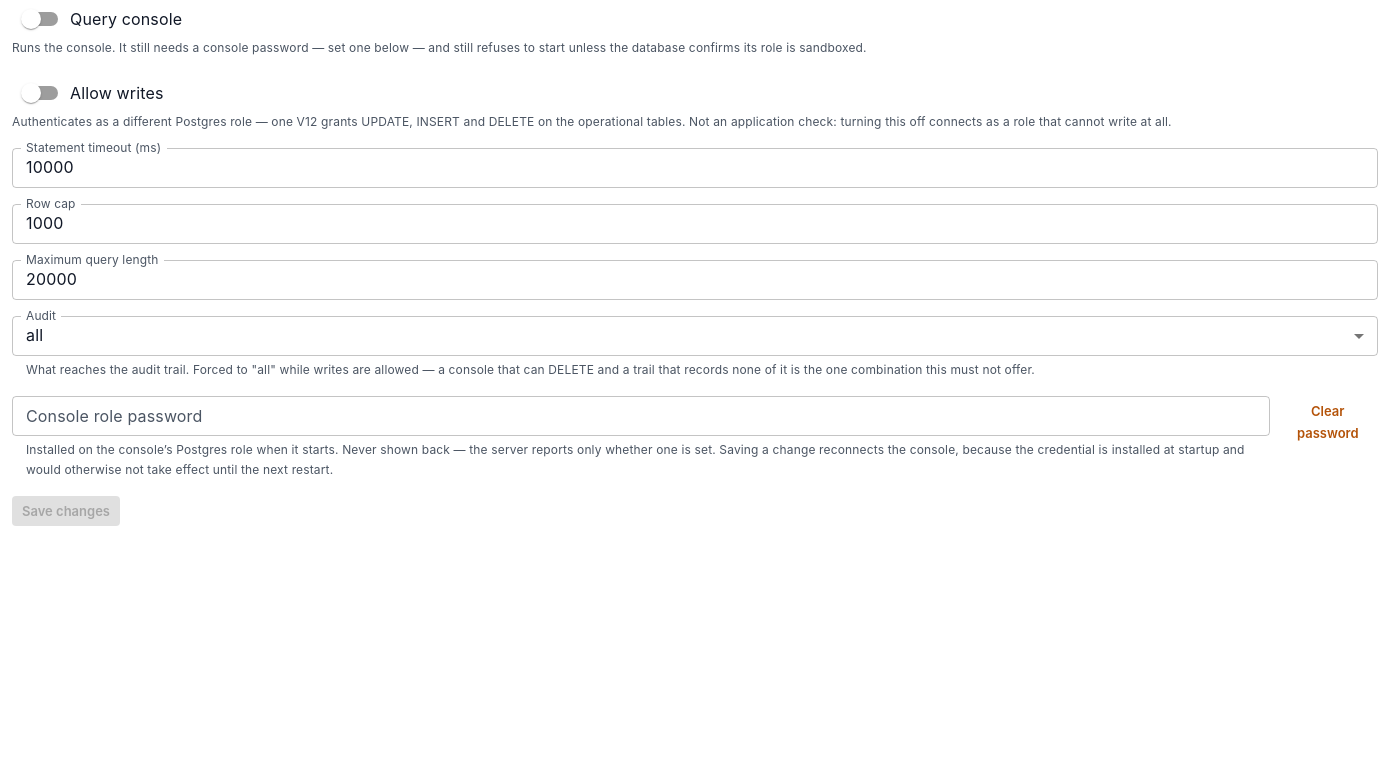
Test: editing the settings › counts what is waiting to be saved
Click the switch labelled "Query console" at coordinates (102, 19), box [21,9,182,29]
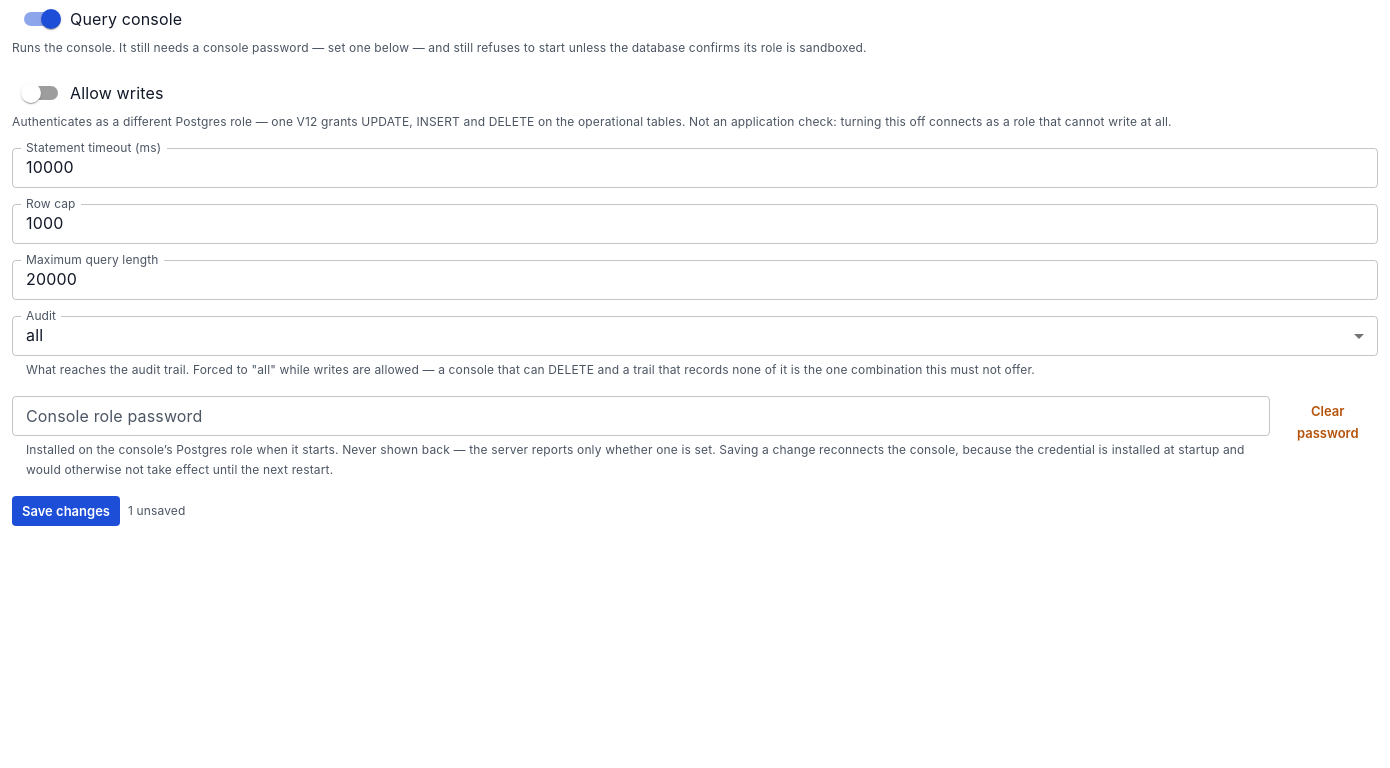
Click the switch labelled "Allow writes" at coordinates (92, 93), box [21,83,164,103]
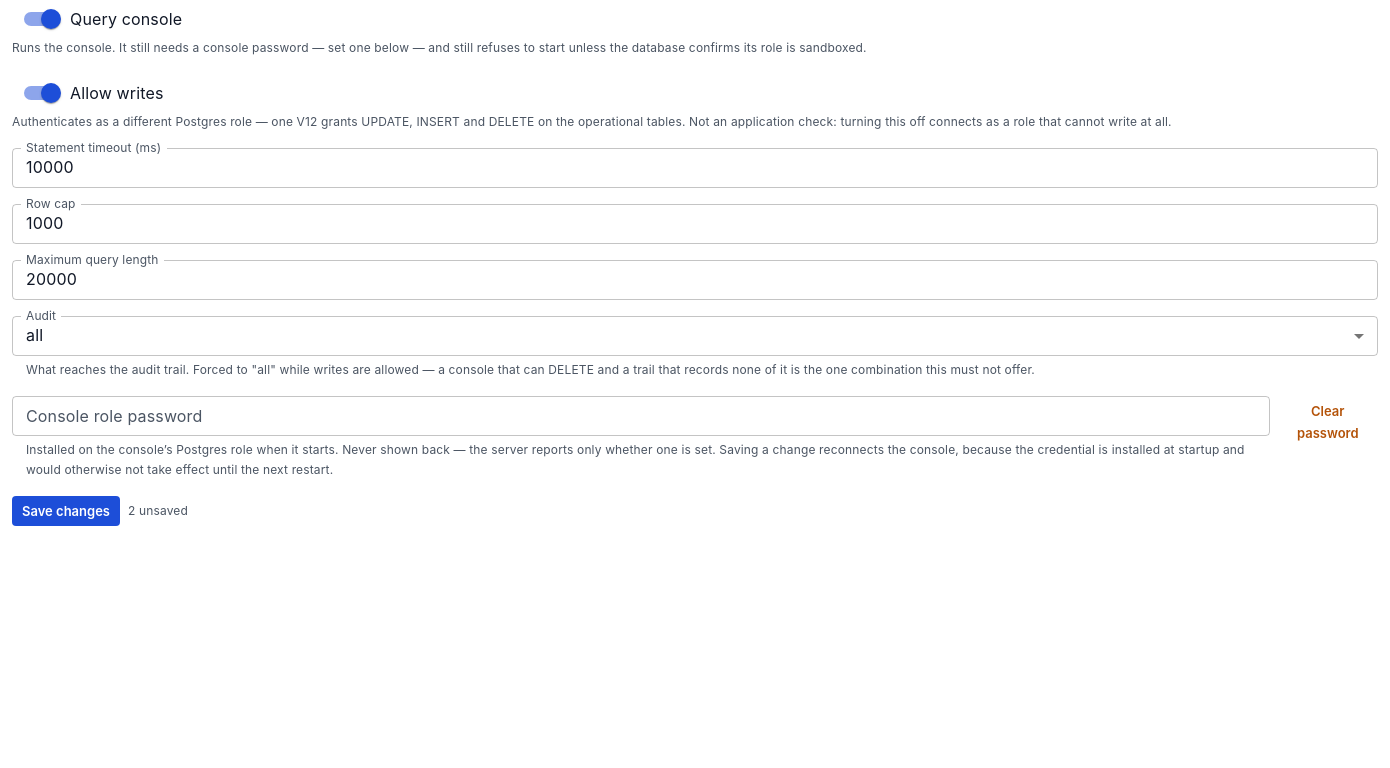
Now the text "2 unsaved" is shown, box [128,501,188,521]
